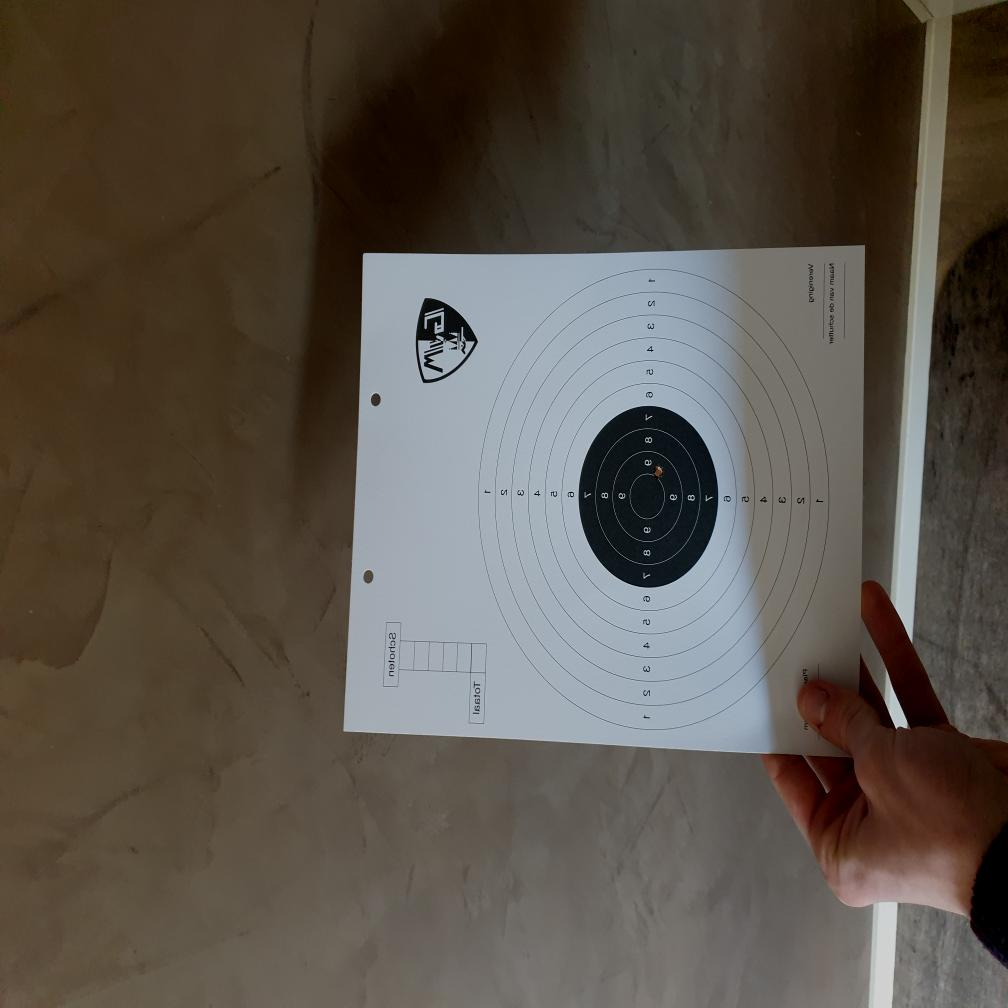10: (652, 464, 664, 480)
Target: (478, 267, 831, 735)
black_contour: (578, 406, 718, 588)
